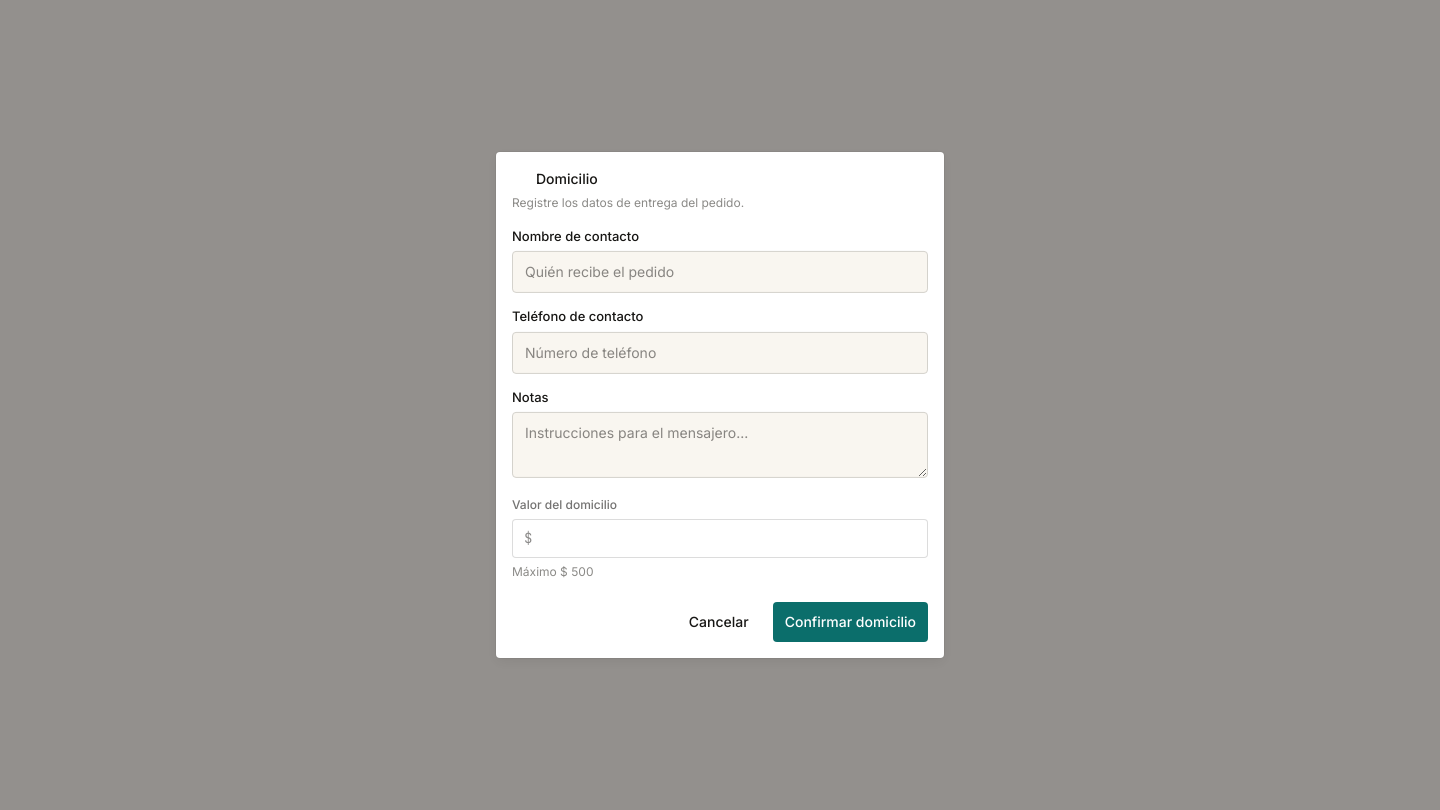
Test case: DeliveryFormDialog › shows the fee-policy error when the manual fee exceeds the cap
The image size is (1440, 810).
In the number field labelled "Valor del domicilio": [720, 539] box [512, 519, 928, 558], type "600"
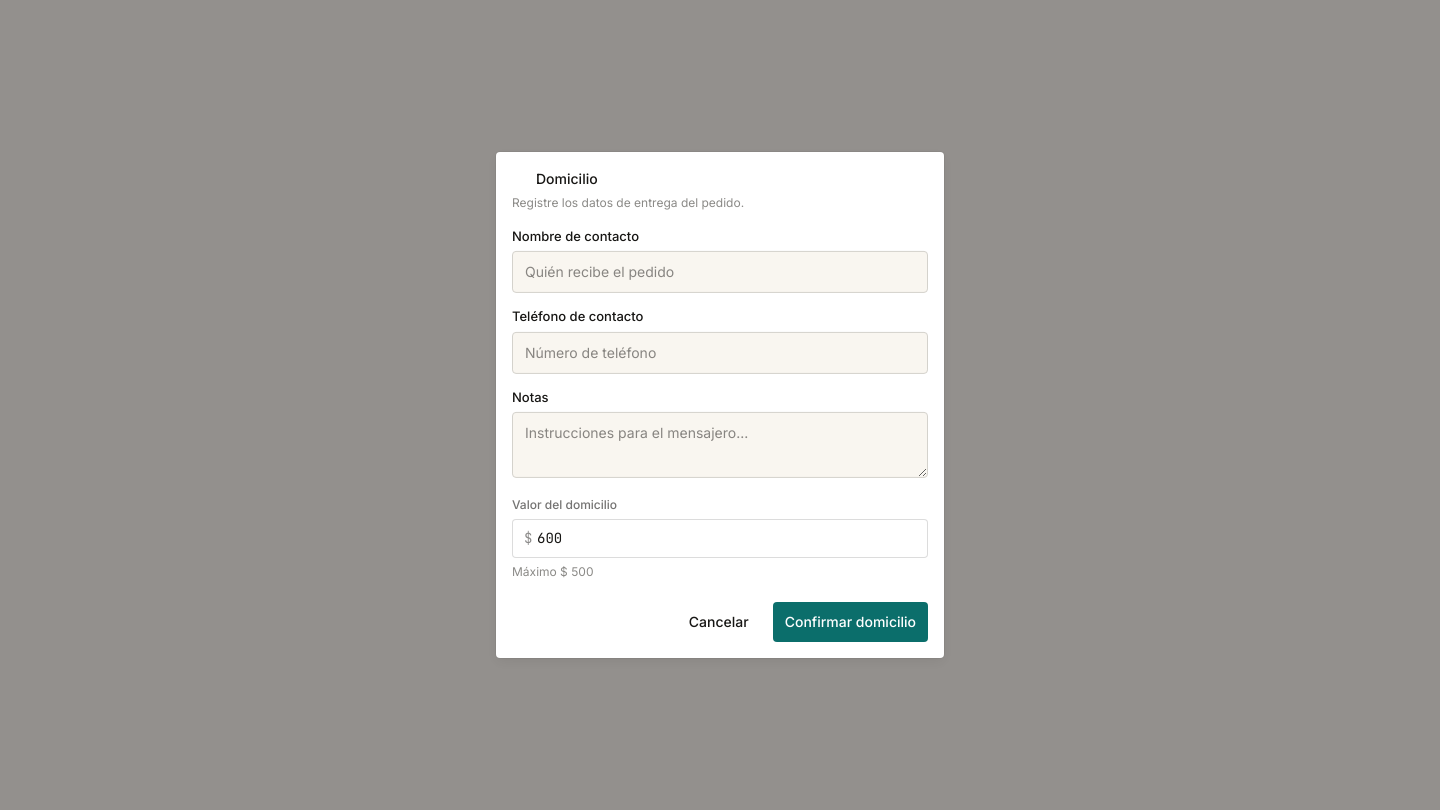
Click the button "Confirmar domicilio": [850, 622] box [773, 602, 928, 642]
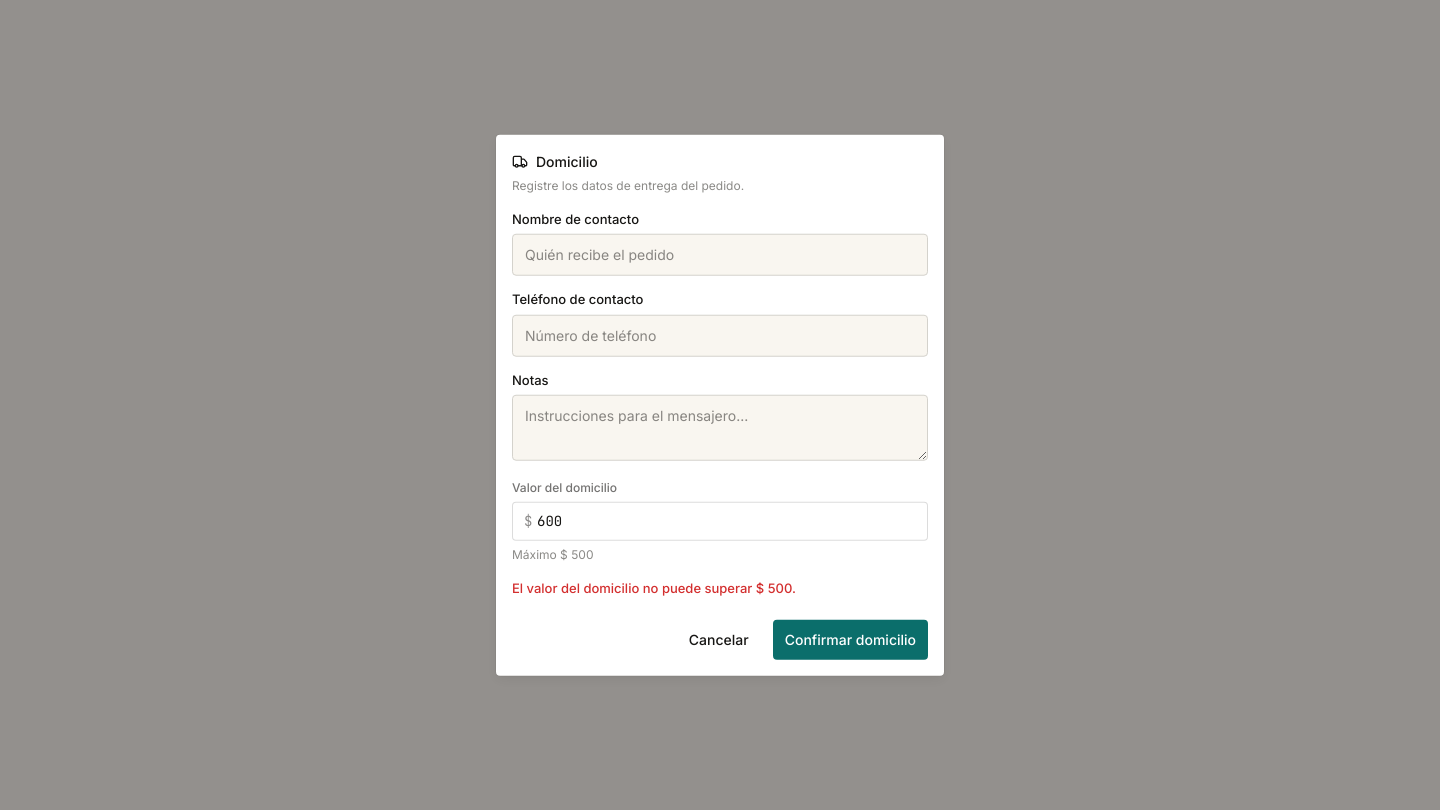
Result: the message reads "El valor del domicilio no puede superar $ 500." at [512, 580, 796, 596]
